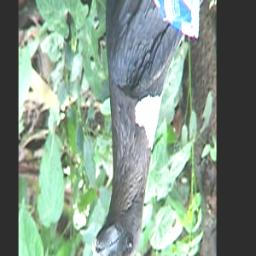Crow: (90, 0, 193, 256)
